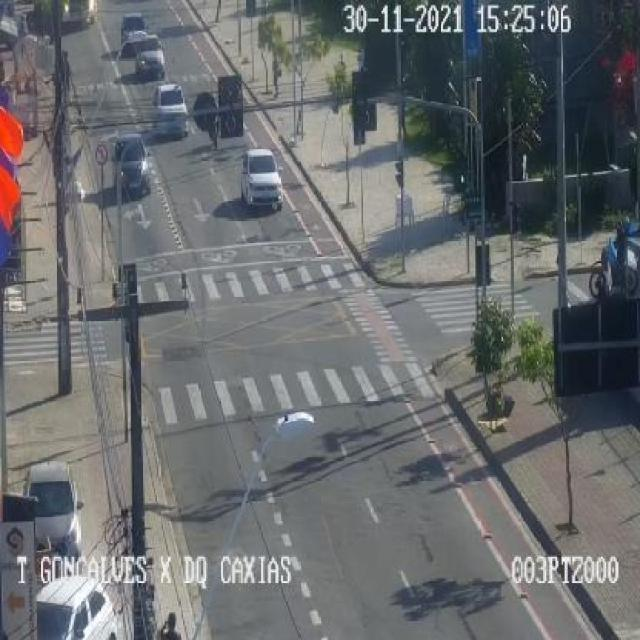Car: (33, 460, 92, 560), (106, 127, 157, 216), (238, 142, 291, 218), (156, 78, 194, 140), (121, 45, 174, 81)
Cycle: (578, 217, 638, 299)
